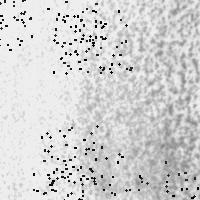pitted_surface: (78, 1, 200, 200), (12, 4, 74, 199), (70, 10, 130, 69), (41, 125, 101, 184), (53, 18, 111, 72), (43, 0, 101, 43), (95, 153, 148, 200), (33, 160, 93, 200), (0, 0, 31, 56), (165, 161, 200, 200)
